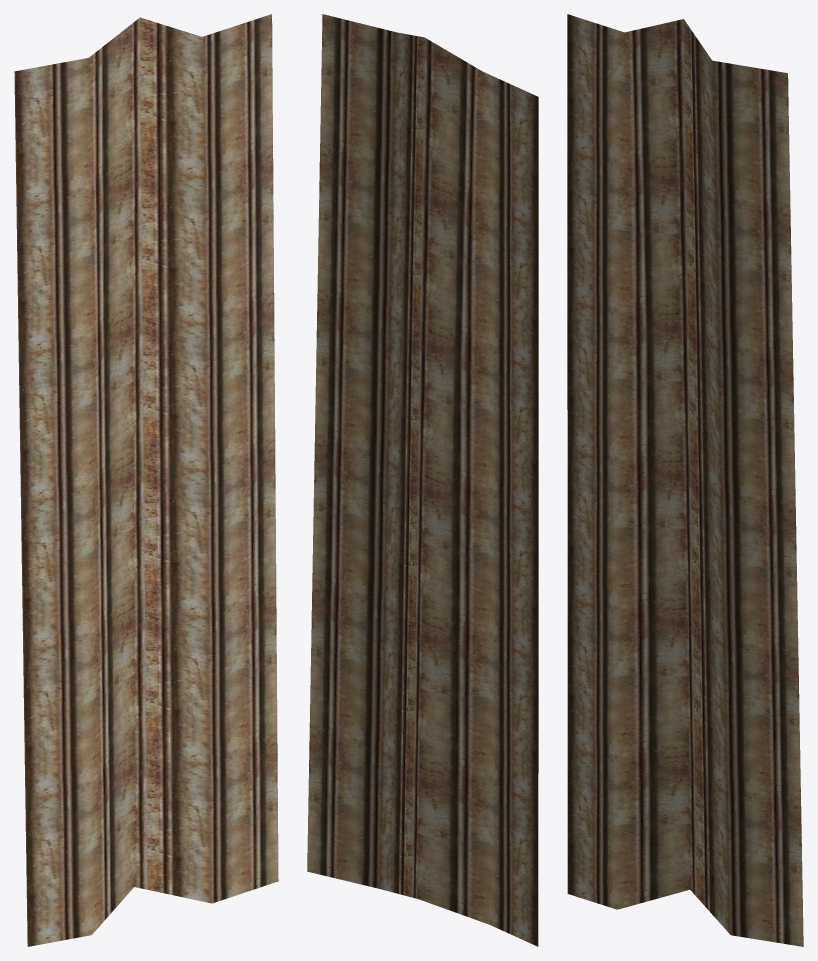
Rendered from RoofBoard.FBX.
3 renders of one model, left to right at view 1: azimuth 30°, elevation 25°; view 2: azimuth 150°, elevation 25°; view 3: azimuth 330°, elevation 25°, orthographic. The views are drawn at different scales.
Visible parts, largest first — view 1: RoofBoard; view 2: RoofBoard; view 3: RoofBoard.
Boxes of the visible parts, x1,y1,x2,y2 form: RoofBoard: [14, 14, 278, 946]; RoofBoard: [307, 14, 538, 946]; RoofBoard: [567, 14, 803, 946].
Size of the model in its own units: 77.96 by 268 by 12.32.
1 material, 1 textured.
